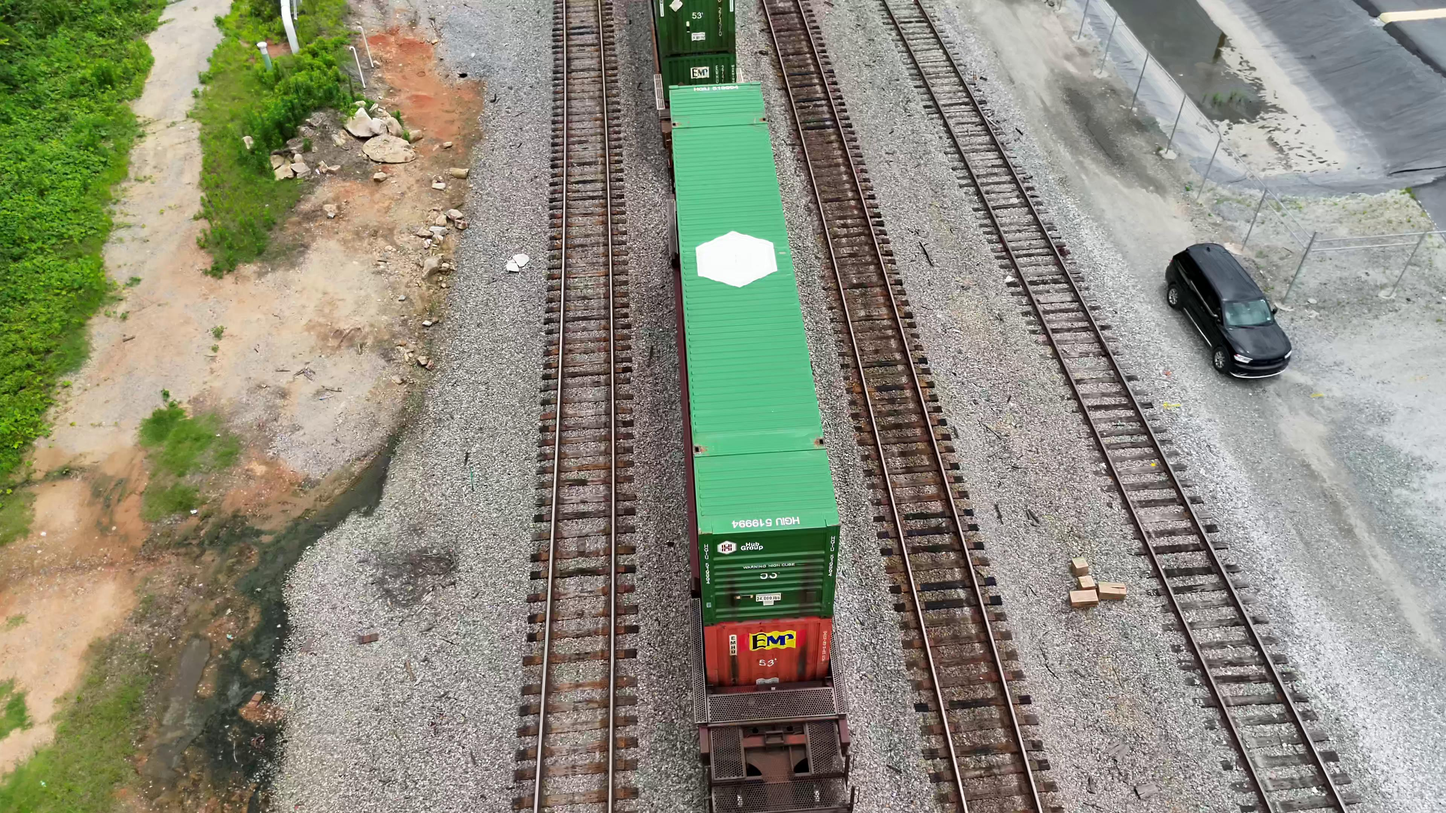box: (1070, 589, 1098, 609), (1096, 582, 1127, 600), (1072, 557, 1089, 576), (1078, 575, 1096, 590)
